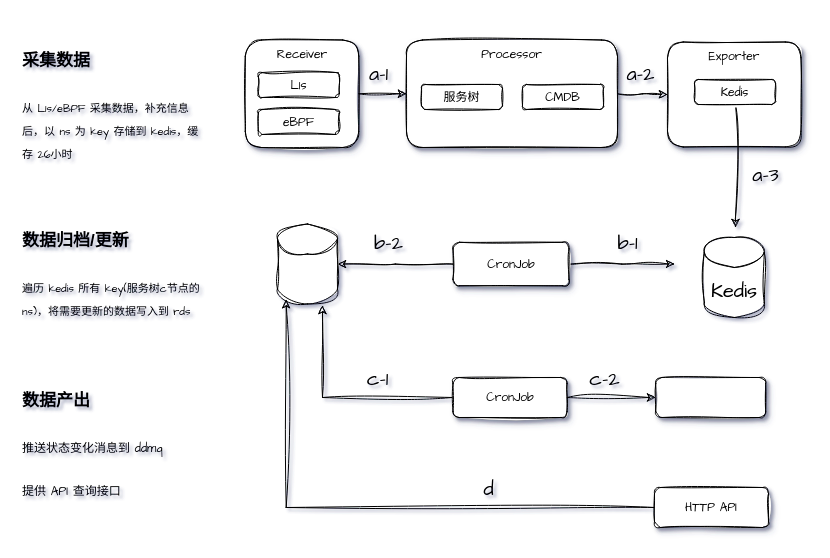
This 830x558 diagram has some shape labels left out. Here are the shapes that lost their labels. From the top down, the centre of each, then its label:
At (307,263): "rds".
At (711,398): "DDMQ".
